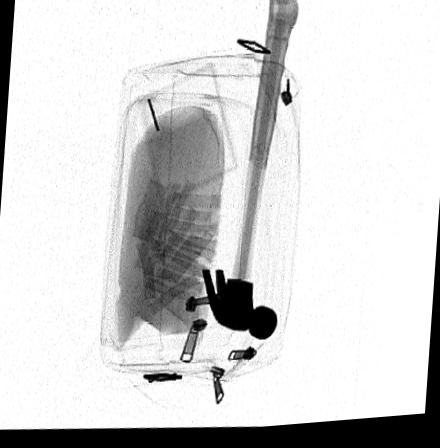Hammer: (200, 0, 299, 346)
